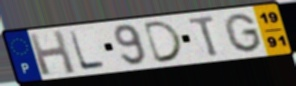9: (112, 23, 149, 67)
D: (142, 19, 186, 65)
G: (222, 12, 265, 54)
H: (26, 28, 79, 77)
L: (67, 29, 108, 72)
T: (186, 13, 222, 58)
